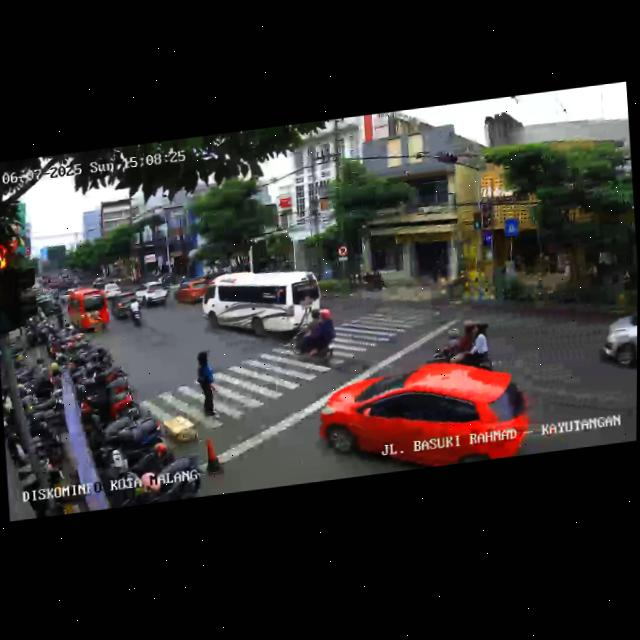car: (316, 352, 536, 481), (203, 265, 318, 348), (596, 305, 637, 379), (62, 284, 111, 337), (172, 275, 208, 308), (138, 279, 169, 307), (111, 292, 135, 322)
motorcycle: (426, 317, 495, 380), (289, 304, 345, 376), (128, 294, 144, 328)
person: (192, 348, 220, 421)
